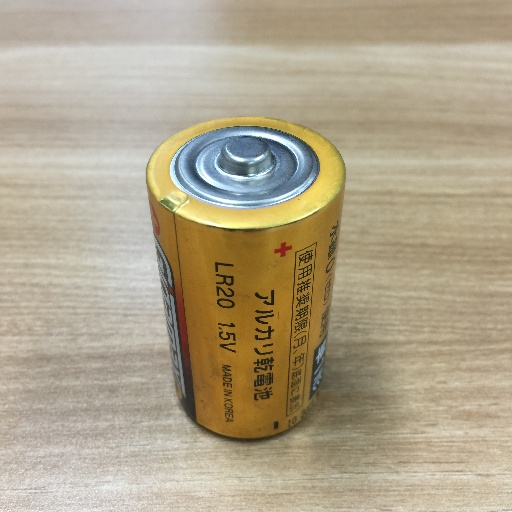Battery_0: (140, 109, 349, 457)
